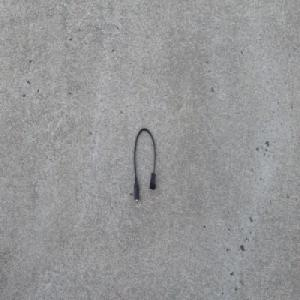Wire: (133, 127, 156, 202)
